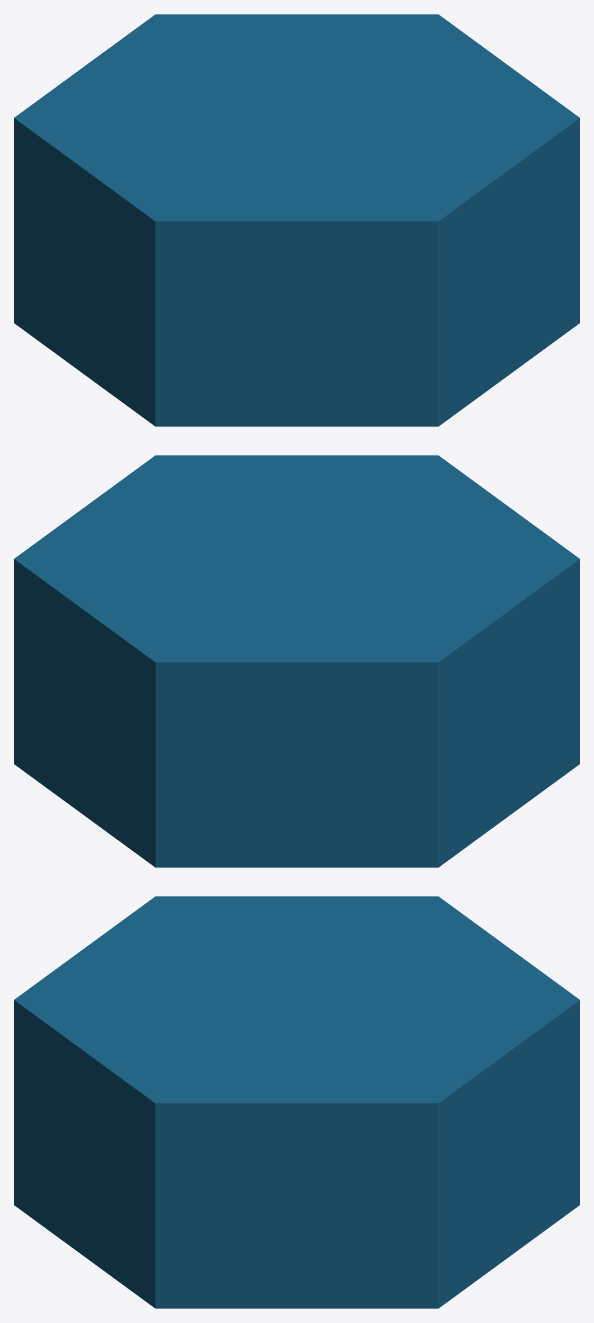
Rendered from deep_water1.glb.
The picture shows the model from 3 angles, top to bottom: view 1: azimuth 30°, elevation 25°; view 2: azimuth 150°, elevation 25°; view 3: azimuth 270°, elevation 25°; orthographic projection.
Parts seen in each view (by area): view 1: DeepWaterTileHalf; view 2: DeepWaterTileHalf; view 3: DeepWaterTileHalf.
Boxes of the visible parts, x1,y1,x2,y2 form: DeepWaterTileHalf: (14, 14, 579, 426); DeepWaterTileHalf: (14, 455, 579, 867); DeepWaterTileHalf: (14, 896, 579, 1308).
Bounding box in the file's own units: 1.73 × 0.8 × 2.
Materials: 1 (1 with a texture image).
